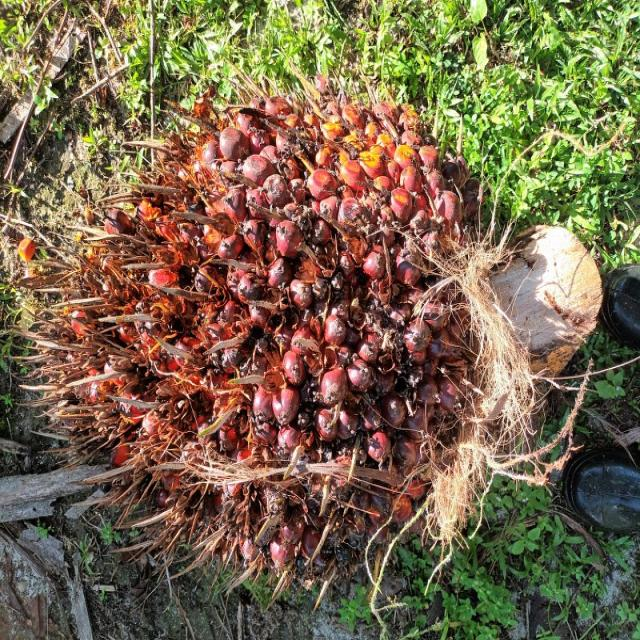fraksi 1: (40, 53, 442, 640)
